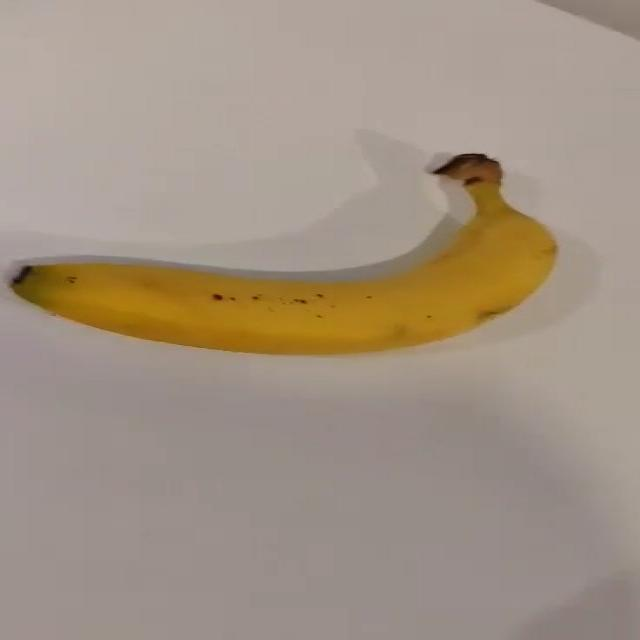Banana: (10, 151, 558, 355)
